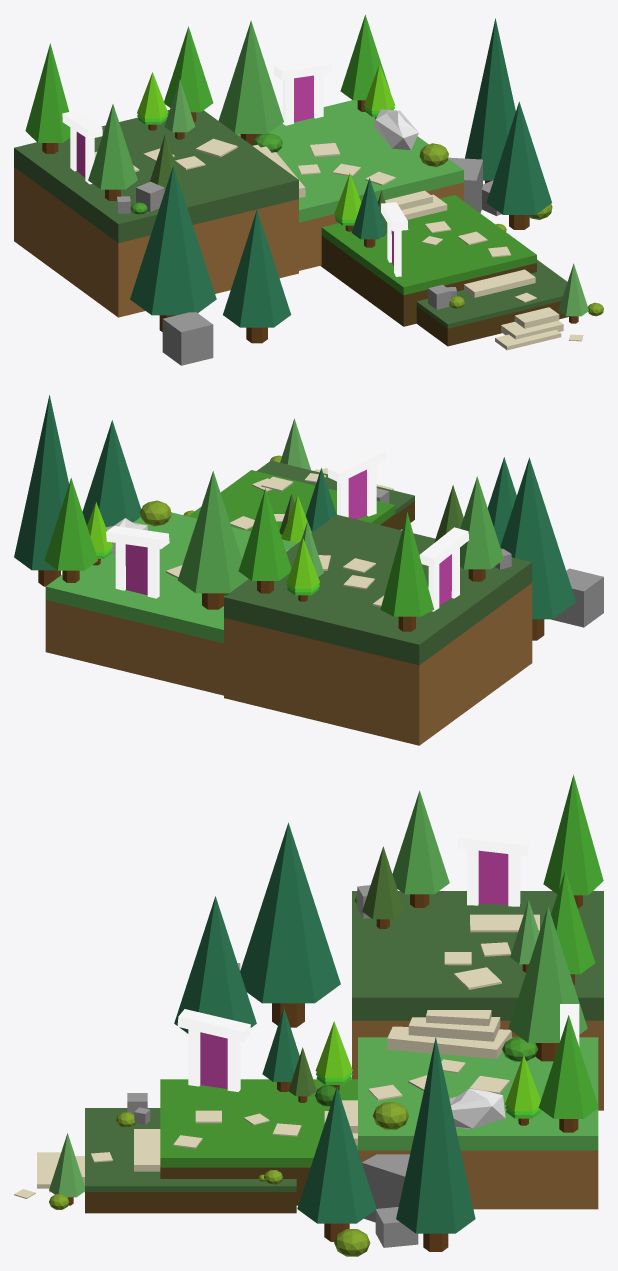
The model's file is environment.glb.
3 views of the same model, one above another, from view 1: azimuth 30°, elevation 25°; view 2: azimuth 150°, elevation 25°; view 3: azimuth 270°, elevation 25° (orthographic). The views are drawn at different scales.
Parts seen in each view (by area): view 1: terrains.001, terrains.002, terrains, trees.008, terrains.003, trees.009, trees.005, trees.014, trees.003, trees.012, trees.006, rocks.001 (+26 smaller); view 2: terrains.001, terrains, trees.008, trees.014, trees.003, terrains.002, trees.005, trees.012, trees, trees.001, trees.006, rocks.001 (+19 smaller); view 3: terrains.001, terrains, terrains.002, terrains.003, trees.008, trees.014, trees.005, trees.003, trees.009, trees.012, trees, trees.006 (+28 smaller).
Boxes of the visible parts, bbox=[...] form: terrains.001: bbox=[14, 109, 298, 317]; terrains.002: bbox=[320, 195, 536, 326]; terrains: bbox=[236, 100, 463, 270]; trees.008: bbox=[130, 166, 216, 331]; terrains.003: bbox=[416, 259, 568, 346]; trees.009: bbox=[223, 209, 291, 343]; trees.005: bbox=[486, 101, 551, 229]; trees.014: bbox=[465, 18, 515, 183]; trees.003: bbox=[218, 20, 283, 145]; trees.012: bbox=[25, 43, 70, 153]; trees.006: bbox=[88, 104, 137, 200]; rocks.001: bbox=[162, 311, 213, 365]; terrains.001: bbox=[224, 514, 532, 745]; terrains: bbox=[45, 512, 297, 695]; trees.008: bbox=[500, 457, 576, 640]; trees.014: bbox=[14, 395, 68, 586]; trees.003: bbox=[178, 471, 248, 609]; terrains.002: bbox=[188, 470, 395, 531]; trees.005: bbox=[82, 420, 141, 526]; trees.012: bbox=[380, 512, 434, 631]; trees: bbox=[44, 478, 97, 582]; trees.001: bbox=[238, 488, 291, 593]; trees.006: bbox=[460, 476, 503, 581]; rocks.001: bbox=[551, 568, 603, 627]; terrains.001: bbox=[352, 891, 603, 1110]; terrains: bbox=[358, 1037, 598, 1209]; terrains.002: bbox=[160, 1079, 357, 1205]; terrains.003: bbox=[85, 1108, 296, 1213]; trees.008: bbox=[240, 822, 340, 1027]; trees.014: bbox=[396, 1037, 475, 1251]; trees.005: bbox=[297, 1087, 376, 1241]; trees.003: bbox=[508, 906, 587, 1061]; trees.009: bbox=[174, 896, 256, 1033]; trees.012: bbox=[543, 774, 603, 908]; trees: bbox=[538, 1015, 598, 1132]; trees.006: bbox=[392, 790, 449, 907].
Size of what is drawn, in the model's own units: 27.51 by 12.25 by 26.43.
